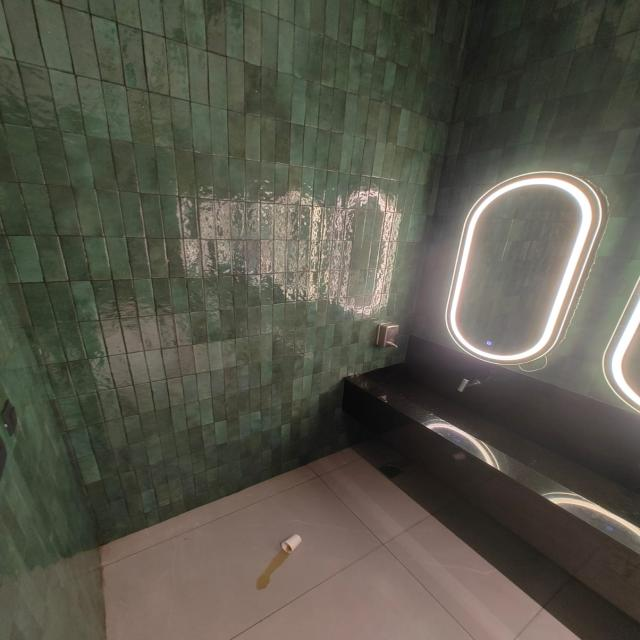cup: (280, 534, 303, 552)
spill: (256, 537, 300, 590)
